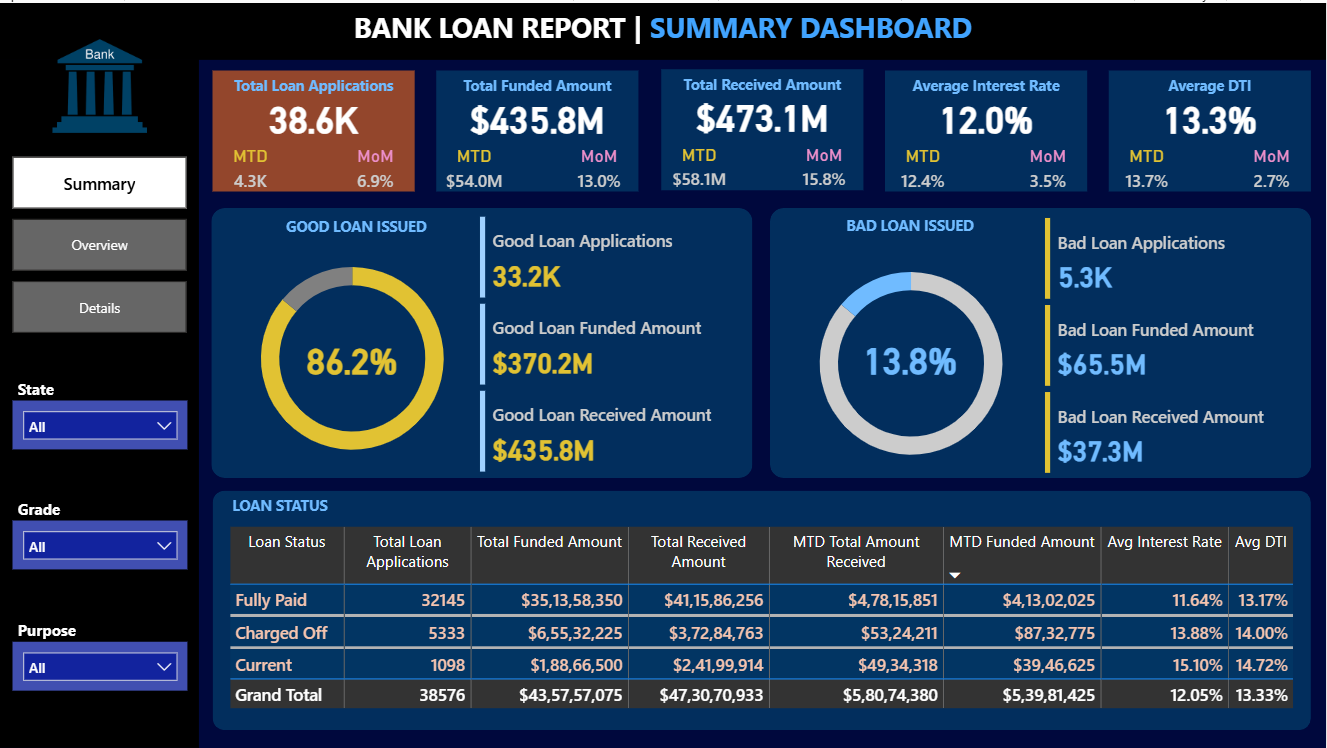

What the dashboard file says about the page in this screenshot:
{"tool":"powerbi","page":{"name":"Summary","canvas":[1280,720],"ordinal":0},"visuals":[{"type":"shape","box":[637.6,63.4,195.1,117.1],"z":0,"group":"g1"},{"type":"shape","box":[204.9,64.6,195.1,117.1],"z":0,"group":"g5"},{"type":"shape","box":[421.2,64.6,195.1,117.1],"z":0,"group":"g2"},{"type":"shape","box":[854,64.6,195.1,117.1],"z":0,"group":"g3"},{"type":"shape","box":[1070.4,64.6,195.1,117.1],"z":0,"group":"g4"},{"type":"shape","box":[203.9,197.9,522.4,260.6],"z":0},{"type":"slicer","fields":{"Values":["bank_loan_data.purpose"]},"box":[12.1,616.2,168.9,47.1],"z":0,"group":"g10"},{"type":"shape","box":[0,54.9,192,664.6],"z":1000},{"type":"card","fields":{"Values":["bank_loan_data.Total Amount Received"]},"box":[637.6,86.6,195.1,43.9],"z":1000,"group":"g1"},{"type":"card","fields":{"Values":["bank_loan_data.Total Loan Applications"]},"box":[204.9,87.8,195.1,43.9],"z":1000,"group":"g5"},{"type":"card","fields":{"Values":["bank_loan_data.Total Funded Amount"]},"box":[421.2,87.8,195.1,43.9],"z":1000,"group":"g2"},{"type":"card","fields":{"Values":["bank_loan_data.Avg Interest Rate"]},"box":[854,87.8,195.1,43.9],"z":1000,"group":"g3"},{"type":"card","fields":{"Values":["bank_loan_data.Avg DTI"]},"box":[1070.4,87.8,195.1,43.9],"z":1000,"group":"g4"},{"type":"textbox","box":[12.1,589.7,96.5,30.2],"z":1000,"group":"g10"},{"type":"shape","box":[0,0,1280.5,54.9],"z":2000},{"type":"textbox","box":[637.6,63.4,195.1,30.5],"z":2000,"group":"g1"},{"type":"textbox","box":[204.9,64.6,195.1,30.5],"z":2000,"group":"g5"},{"type":"textbox","box":[421.2,64.6,195.1,30.5],"z":2000,"group":"g2"},{"type":"textbox","box":[854,64.6,195.1,30.5],"z":2000,"group":"g3"},{"type":"textbox","box":[1070.4,64.6,195.1,30.5],"z":2000,"group":"g4"},{"type":"card","title":"MTD","fields":{"Values":["bank_loan_data.MTD Total Amount Received"]},"box":[636.4,135.4,75.6,46.3],"z":3000,"group":"g1"},{"type":"card","title":"MTD","fields":{"Values":["bank_loan_data.MTD Loan Applications"]},"box":[203.7,136.6,75.6,46.3],"z":3000,"group":"g5"},{"type":"card","title":"MTD","fields":{"Values":["bank_loan_data.MTD Funded Amount"]},"box":[420,136.6,75.6,46.3],"z":3000,"group":"g2"},{"type":"card","title":"MTD","fields":{"Values":["bank_loan_data.MTD Avg Int Rate"]},"box":[852.8,136.6,75.6,46.3],"z":3000,"group":"g3"},{"type":"card","title":"MTD","fields":{"Values":["bank_loan_data.MTD Avg DTI"]},"box":[1069.2,136.6,75.6,46.3],"z":3000,"group":"g4"},{"type":"shape","box":[743.2,197.9,522.4,260.6],"z":3000},{"type":"card","title":"MoM","fields":{"Values":["bank_loan_data.MoM Total Received Amount"]},"box":[757.1,135.4,75.6,46.3],"z":4000,"group":"g1"},{"type":"card","title":"MoM","fields":{"Values":["bank_loan_data.MoM Loan Applications"]},"box":[324.4,136.6,75.6,46.3],"z":4000,"group":"g5"},{"type":"card","title":"MoM","fields":{"Values":["bank_loan_data.MoM Total Funded Amount"]},"box":[540.7,136.6,75.6,46.3],"z":4000,"group":"g2"},{"type":"card","title":"MoM","fields":{"Values":["bank_loan_data.MoM Avg Int Rate"]},"box":[973.5,136.6,75.6,46.3],"z":4000,"group":"g3"},{"type":"card","title":"MoM","fields":{"Values":["bank_loan_data.MoM Avg DTI"]},"box":[1189.9,136.6,75.6,46.3],"z":4000,"group":"g4"},{"type":"card","fields":{"Values":["bank_loan_data.Bad Loan Percentage"]},"box":[780.6,320.9,195.4,44.6],"z":4000},{"type":"group","id":"g1","title":"Group 2","box":[636.4,63.4,196.3,118.3],"z":4001,"group":"g7"},{"type":"group","id":"g2","title":"Group 2","box":[420,64.6,196.3,118.3],"z":4001,"group":"g6"},{"type":"group","id":"g3","title":"Group 2","box":[852.8,64.6,196.3,118.3],"z":4001,"group":"g8"},{"type":"group","id":"g4","title":"Group 2","box":[1069.2,64.6,196.3,118.3],"z":4001,"group":"g9"},{"type":"textbox","box":[246.1,201.5,195.4,30.2],"z":5000},{"type":"card","fields":{"Values":["bank_loan_data.Good Loan Percentage"]},"box":[269,320.9,141.2,44.6],"z":6000},{"type":"textbox","box":[325.6,0,628,47.6],"z":7000},{"type":"group","id":"g5","title":"Group 1","box":[203.7,64.6,196.3,118.3],"z":8000},{"type":"group","id":"g6","title":"Group 1","box":[420,64.6,196.3,118.3],"z":9000},{"type":"donutChart","fields":{"Category":["bank_loan_data.God v Bad Loan"],"Y":["bank_loan_data.Total Loan Applications"]},"box":[754,232.8,250.9,230.4],"z":10000},{"type":"group","id":"g7","title":"Group 1","box":[636.4,63.4,196.3,118.3],"z":11000},{"type":"group","id":"g8","title":"Group 1","box":[852.8,64.6,196.3,118.3],"z":12000},{"type":"group","id":"g9","title":"Group 1","box":[1069.2,64.6,196.3,118.3],"z":13000},{"type":"donutChart","fields":{"Category":["bank_loan_data.God v Bad Loan"],"Y":["bank_loan_data.Total Loan Applications"]},"box":[214.7,228,250.9,230.4],"z":14000},{"type":"cardVisual","fields":{"Data":["bank_loan_data.Good Loan Applications","bank_loan_data.Good Loan Funded Amount","bank_loan_data.Good Loan Received Amount"]},"box":[458.4,201.5,276.3,257],"z":15000},{"type":"textbox","box":[780.6,200.3,195.4,30.2],"z":16000},{"type":"cardVisual","fields":{"Data":["bank_loan_data.Bad Loan Applications","bank_loan_data.Bad Loan Funded Amount","bank_loan_data.Bad Loan Received Amount"]},"box":[1003.8,202.7,276.3,257],"z":17000},{"type":"shape","box":[204.8,471.1,1060.2,231.3],"z":18000},{"type":"tableEx","fields":{"Values":["bank_loan_data.loan_status","bank_loan_data.Total Loan Applications","bank_loan_data.Total Funded Amount","bank_loan_data.Total Amount Received","bank_loan_data.MTD Total Amount Received","bank_loan_data.MTD Funded Amount","bank_loan_data.Avg Interest Rate","bank_loan_data.Avg DTI"]},"box":[215.7,501.2,1041,190.4],"z":19000},{"type":"textbox","box":[172.3,471.1,195.2,30.1],"z":20000},{"type":"slicer","fields":{"Values":["bank_loan_data.address_state"]},"box":[12.1,383.8,168.9,47.1],"z":21000,"group":"g12"},{"type":"group","id":"g10","title":"Group 3","box":[12.1,589.7,168.9,73.6],"z":21000},{"type":"textbox","box":[12.1,357.3,96.5,30.2],"z":22000,"group":"g12"},{"type":"group","id":"g11","title":"Group 4","box":[12.1,473.5,168.9,73.6],"z":22000},{"type":"group","id":"g12","title":"Group 5","box":[12.1,357.3,168.9,73.6],"z":23000},{"type":"slicer","fields":{"Values":["bank_loan_data.grade"]},"box":[12.1,500,168.9,47.1],"z":23000,"group":"g11"},{"type":"image","box":[45.8,27.7,101.3,105],"z":24000},{"type":"textbox","box":[12.1,473.5,96.5,30.2],"z":24000,"group":"g11"},{"type":"pageNavigator","box":[12.1,148.4,168.9,172.5],"z":25000}]}

Visuals, with their boxes in screenshot pixels (x1, y1, x2, y2), scaled from the page's 1280x720 canvas onto the 1327x748 screenshot:
shape: Rect(661, 66, 863, 188)
shape: Rect(212, 67, 415, 189)
shape: Rect(437, 67, 639, 189)
shape: Rect(885, 67, 1088, 189)
shape: Rect(1110, 67, 1312, 189)
shape: Rect(211, 206, 753, 476)
slicer - bank_loan_data.purpose: Rect(13, 640, 188, 689)
shape: Rect(0, 57, 199, 747)
card - bank_loan_data.Total Amount Received: Rect(661, 90, 863, 136)
card - bank_loan_data.Total Loan Applications: Rect(212, 91, 415, 137)
card - bank_loan_data.Total Funded Amount: Rect(437, 91, 639, 137)
card - bank_loan_data.Avg Interest Rate: Rect(885, 91, 1088, 137)
card - bank_loan_data.Avg DTI: Rect(1110, 91, 1312, 137)
textbox: Rect(13, 613, 113, 644)
shape: Rect(0, 0, 1326, 57)
textbox: Rect(661, 66, 863, 98)
textbox: Rect(212, 67, 415, 99)
textbox: Rect(437, 67, 639, 99)
textbox: Rect(885, 67, 1088, 99)
textbox: Rect(1110, 67, 1312, 99)
"MTD" card: Rect(660, 141, 738, 189)
"MTD" card: Rect(211, 142, 290, 190)
"MTD" card: Rect(435, 142, 514, 190)
"MTD" card: Rect(884, 142, 962, 190)
"MTD" card: Rect(1108, 142, 1187, 190)
shape: Rect(770, 206, 1312, 476)
"MoM" card: Rect(785, 141, 863, 189)
"MoM" card: Rect(336, 142, 415, 190)
"MoM" card: Rect(561, 142, 639, 190)
"MoM" card: Rect(1009, 142, 1088, 190)
"MoM" card: Rect(1234, 142, 1312, 190)
card - bank_loan_data.Bad Loan Percentage: Rect(809, 333, 1012, 380)
"Group 2" group: Rect(660, 66, 863, 189)
"Group 2" group: Rect(435, 67, 639, 190)
"Group 2" group: Rect(884, 67, 1088, 190)
"Group 2" group: Rect(1108, 67, 1312, 190)
textbox: Rect(255, 209, 458, 241)
card - bank_loan_data.Good Loan Percentage: Rect(279, 333, 425, 380)
textbox: Rect(338, 0, 989, 49)
"Group 1" group: Rect(211, 67, 415, 190)
"Group 1" group: Rect(435, 67, 639, 190)
donutChart - bank_loan_data.God v Bad Loan x bank_loan_data.Total Loan Applications: Rect(782, 242, 1042, 481)
"Group 1" group: Rect(660, 66, 863, 189)
"Group 1" group: Rect(884, 67, 1088, 190)
"Group 1" group: Rect(1108, 67, 1312, 190)
donutChart - bank_loan_data.God v Bad Loan x bank_loan_data.Total Loan Applications: Rect(223, 237, 483, 476)
cardVisual - bank_loan_data.Good Loan Applications x bank_loan_data.Good Loan Funded Amount: Rect(475, 209, 762, 476)
textbox: Rect(809, 208, 1012, 239)
cardVisual - bank_loan_data.Bad Loan Applications x bank_loan_data.Bad Loan Funded Amount: Rect(1041, 211, 1326, 478)
shape: Rect(212, 489, 1311, 730)
tableEx - bank_loan_data.loan_status x bank_loan_data.Total Loan Applications: Rect(224, 521, 1303, 718)
textbox: Rect(179, 489, 381, 521)
slicer - bank_loan_data.address_state: Rect(13, 399, 188, 448)
"Group 3" group: Rect(13, 613, 188, 689)
textbox: Rect(13, 371, 113, 403)
"Group 4" group: Rect(13, 492, 188, 568)
"Group 5" group: Rect(13, 371, 188, 448)
slicer - bank_loan_data.grade: Rect(13, 519, 188, 568)
image: Rect(47, 29, 153, 138)
textbox: Rect(13, 492, 113, 523)
pageNavigator: Rect(13, 154, 188, 333)
